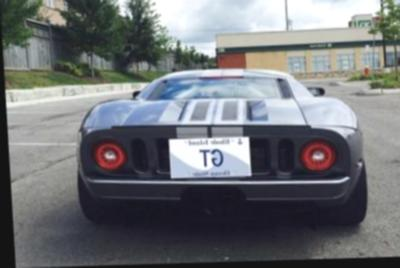License_Plate: (170, 136, 252, 177)
